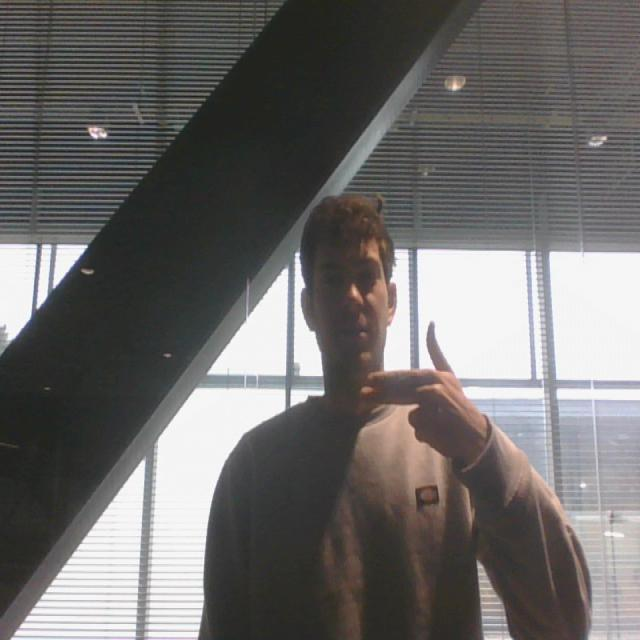left: (362, 317, 485, 464)
